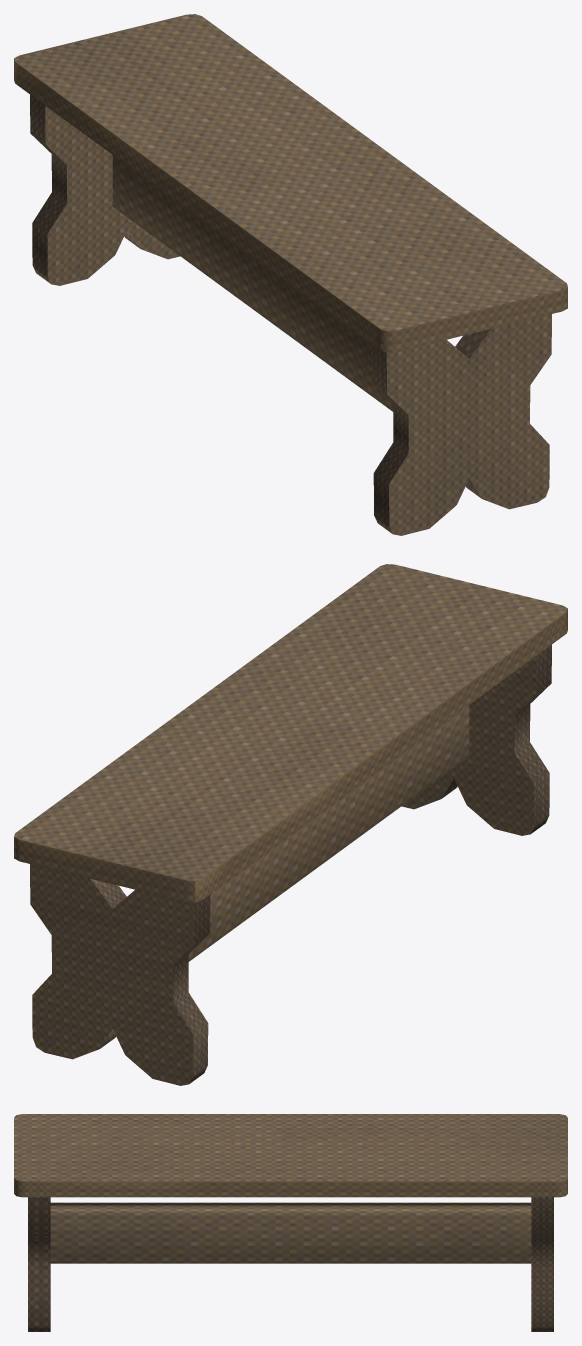
File: bench1_long.fbx
3 views of the same model, one above another, from view 1: azimuth 30°, elevation 25°; view 2: azimuth 150°, elevation 25°; view 3: azimuth 270°, elevation 25° (orthographic). The views are drawn at different scales.
Visible parts, largest first — view 1: bench1_long; view 2: bench1_long; view 3: bench1_long.
Boxes of the visible parts, x1=… form: bench1_long: x1=14, y1=14, x2=567, y2=535; bench1_long: x1=14, y1=564, x2=567, y2=1085; bench1_long: x1=14, y1=1114, x2=567, y2=1331.
Bounding box in the file's own units: 1.7 × 1.89 × 5.92.
